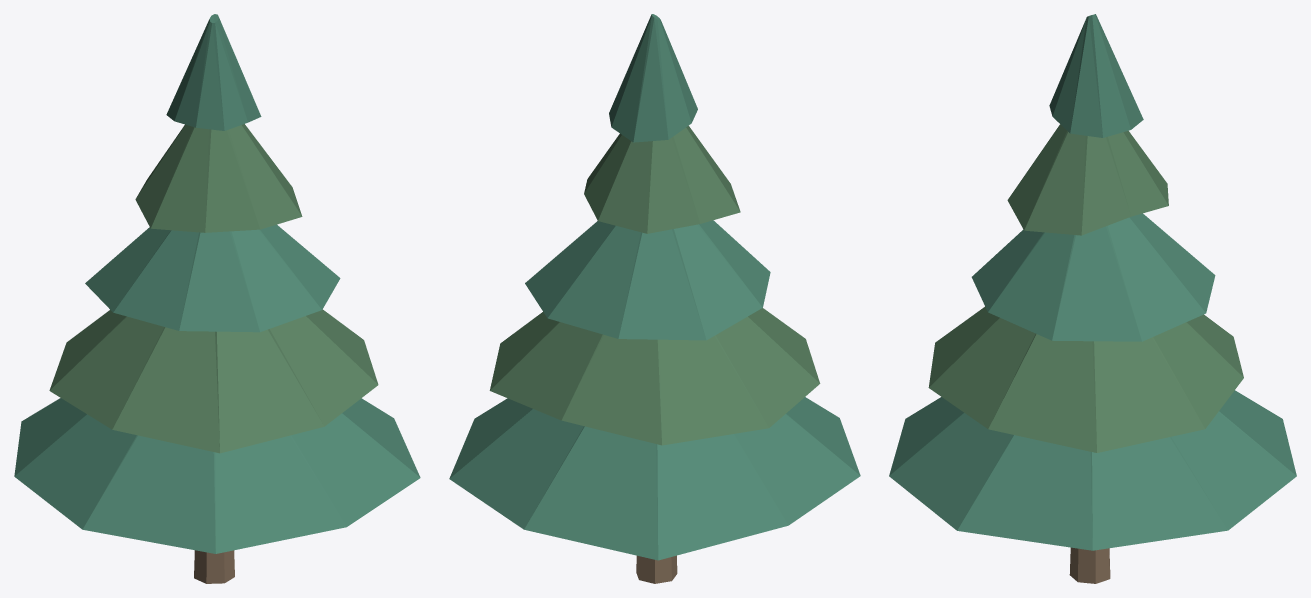
The model's file is tree_pine.glb.
The picture shows the model from 3 angles, left to right: view 1: azimuth 30°, elevation 25°; view 2: azimuth 150°, elevation 25°; view 3: azimuth 270°, elevation 25°; orthographic projection.
Visible parts, largest first — view 1: tree_pine; view 2: tree_pine; view 3: tree_pine.
Boxes of the visible parts, bbox=[...] form: tree_pine: bbox=[14, 14, 420, 583]; tree_pine: bbox=[449, 14, 860, 583]; tree_pine: bbox=[889, 14, 1296, 583].
Size of what is drawn, in the model's own units: 4.19 by 6.42 by 4.22.
